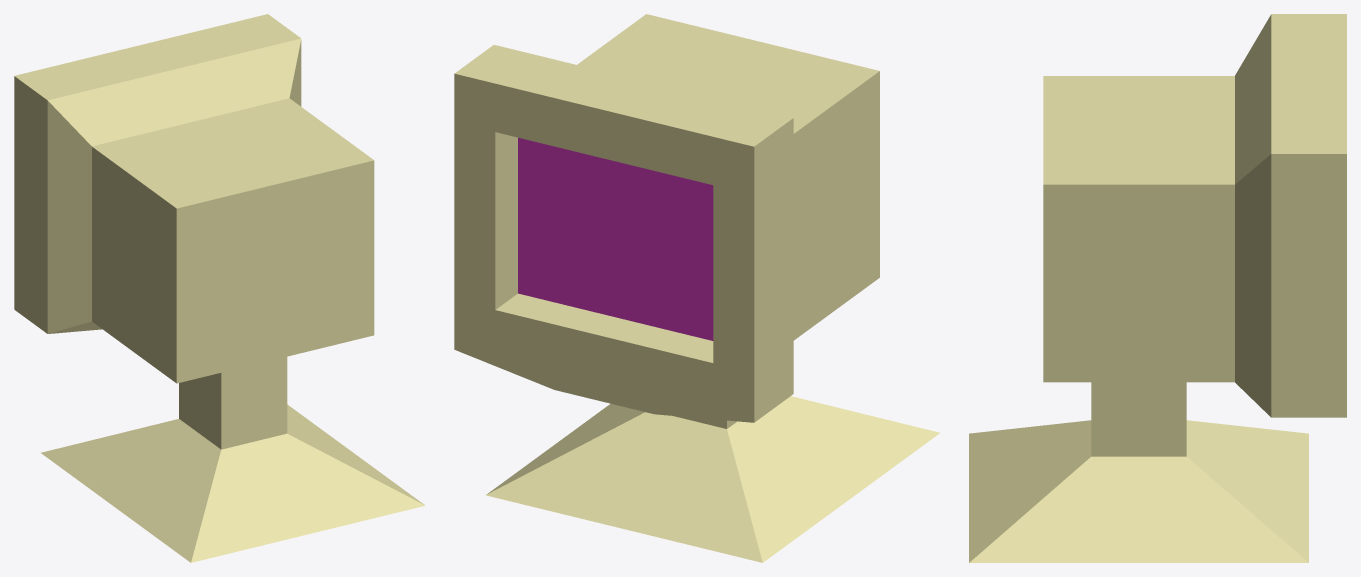
Rendered from monitor.glb.
3 renders of one model, left to right at view 1: azimuth 30°, elevation 25°; view 2: azimuth 150°, elevation 25°; view 3: azimuth 270°, elevation 25°, orthographic. The views are drawn at different scales.
Parts seen in each view (by area): view 1: Monitor; view 2: Monitor; view 3: Monitor.
Boxes of the visible parts, bbox=[...] form: Monitor: bbox=[14, 14, 425, 562]; Monitor: bbox=[454, 14, 939, 562]; Monitor: bbox=[969, 14, 1346, 562].
Bounding box in the file's own units: 2 × 2.76 × 2.28.
